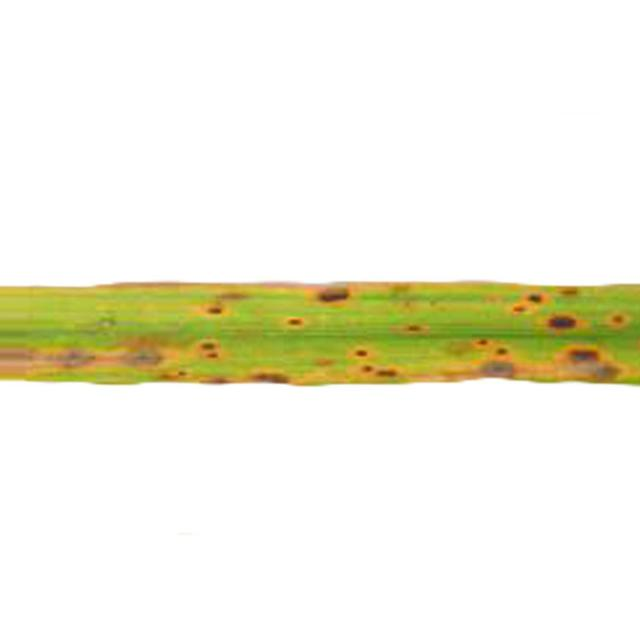Brown_Spot: (51, 349, 95, 370), (560, 346, 600, 365), (220, 285, 258, 305), (136, 345, 162, 371), (316, 286, 349, 304), (251, 371, 290, 384), (485, 360, 514, 377), (375, 368, 409, 382), (199, 340, 221, 359), (402, 322, 430, 335), (599, 365, 620, 382), (549, 316, 576, 329), (608, 312, 629, 328), (525, 291, 550, 304), (491, 344, 512, 359), (354, 346, 375, 359), (164, 369, 186, 381), (285, 316, 305, 328), (512, 302, 530, 315), (200, 375, 226, 384), (204, 304, 224, 315), (471, 339, 490, 350), (556, 286, 579, 295), (361, 365, 374, 372)
